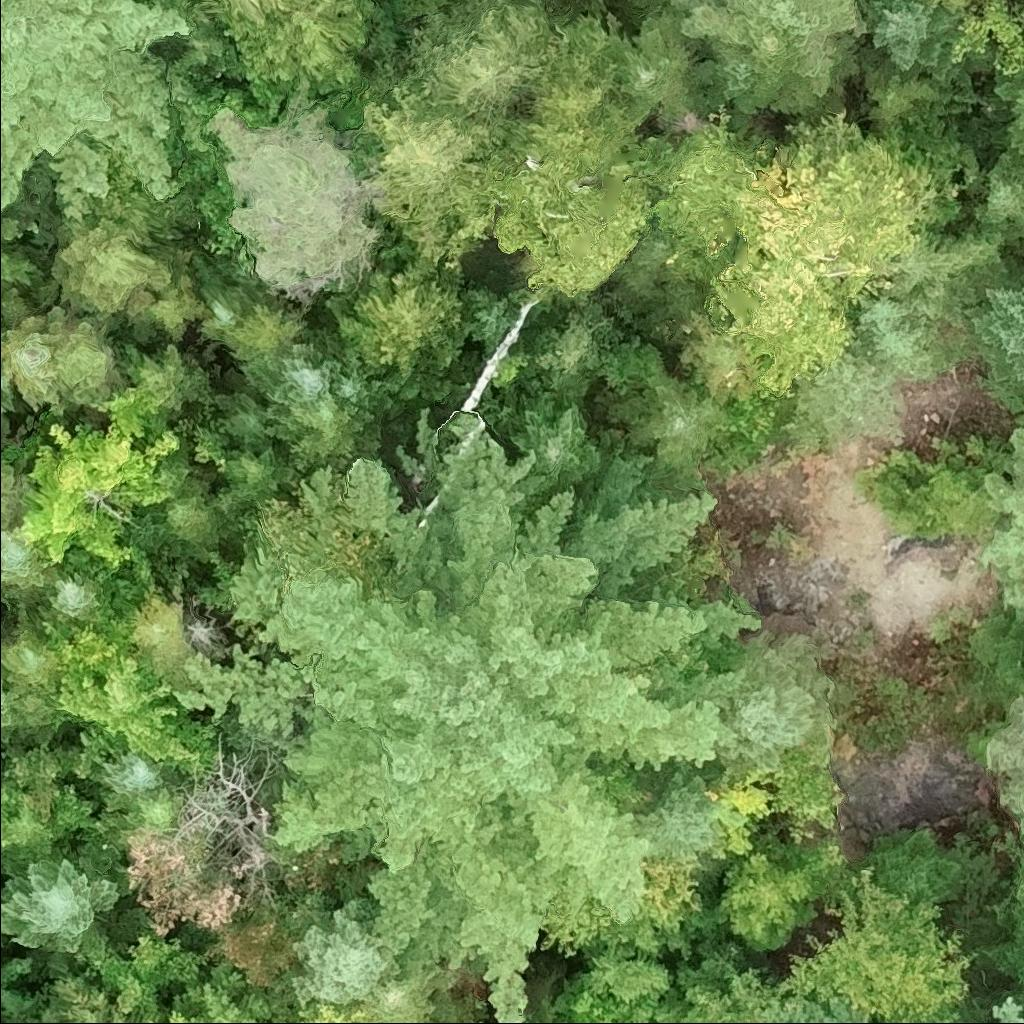crown: (173, 411, 770, 1023), (642, 101, 965, 399), (0, 0, 225, 221), (205, 74, 383, 306), (482, 80, 657, 297), (777, 863, 979, 1023), (348, 84, 503, 249), (662, 0, 873, 120), (46, 642, 215, 775), (220, 0, 383, 119), (400, 0, 560, 121), (323, 254, 468, 382), (31, 217, 176, 340), (713, 630, 836, 772), (5, 442, 137, 571), (48, 393, 180, 507), (892, 223, 1018, 329), (605, 373, 727, 477), (0, 854, 125, 954), (289, 896, 388, 1014), (264, 383, 383, 478), (602, 6, 695, 127), (635, 762, 741, 862), (716, 851, 817, 953), (507, 389, 602, 497), (855, 0, 971, 88), (973, 428, 1023, 624), (758, 740, 848, 846), (128, 244, 212, 347), (129, 583, 205, 686), (865, 827, 965, 905), (112, 339, 212, 416), (354, 960, 468, 1023), (0, 303, 65, 412), (53, 314, 129, 404), (963, 283, 1023, 396), (189, 248, 265, 337), (721, 17, 795, 106), (968, 144, 1023, 257), (537, 882, 616, 959), (162, 473, 228, 564), (267, 338, 350, 408), (984, 695, 1023, 840), (0, 605, 58, 699), (950, 0, 1023, 74), (0, 527, 61, 614), (861, 66, 940, 129), (330, 352, 402, 421), (96, 741, 172, 806), (685, 56, 766, 113), (222, 445, 296, 504), (31, 569, 107, 625), (460, 282, 515, 356), (101, 782, 186, 827), (214, 389, 270, 452), (0, 214, 44, 291), (121, 504, 183, 555), (988, 67, 1023, 155), (983, 917, 1023, 991), (772, 994, 868, 1023), (156, 439, 196, 504), (209, 0, 288, 30), (11, 691, 50, 746), (0, 673, 19, 745), (297, 1003, 358, 1023), (987, 990, 1023, 1023), (0, 781, 18, 814), (166, 1008, 192, 1023), (1013, 882, 1023, 919), (0, 311, 7, 362), (1012, 665, 1023, 697), (589, 0, 607, 5), (0, 398, 5, 414), (148, 1019, 159, 1023), (998, 0, 1009, 2), (489, 1022, 493, 1023)
